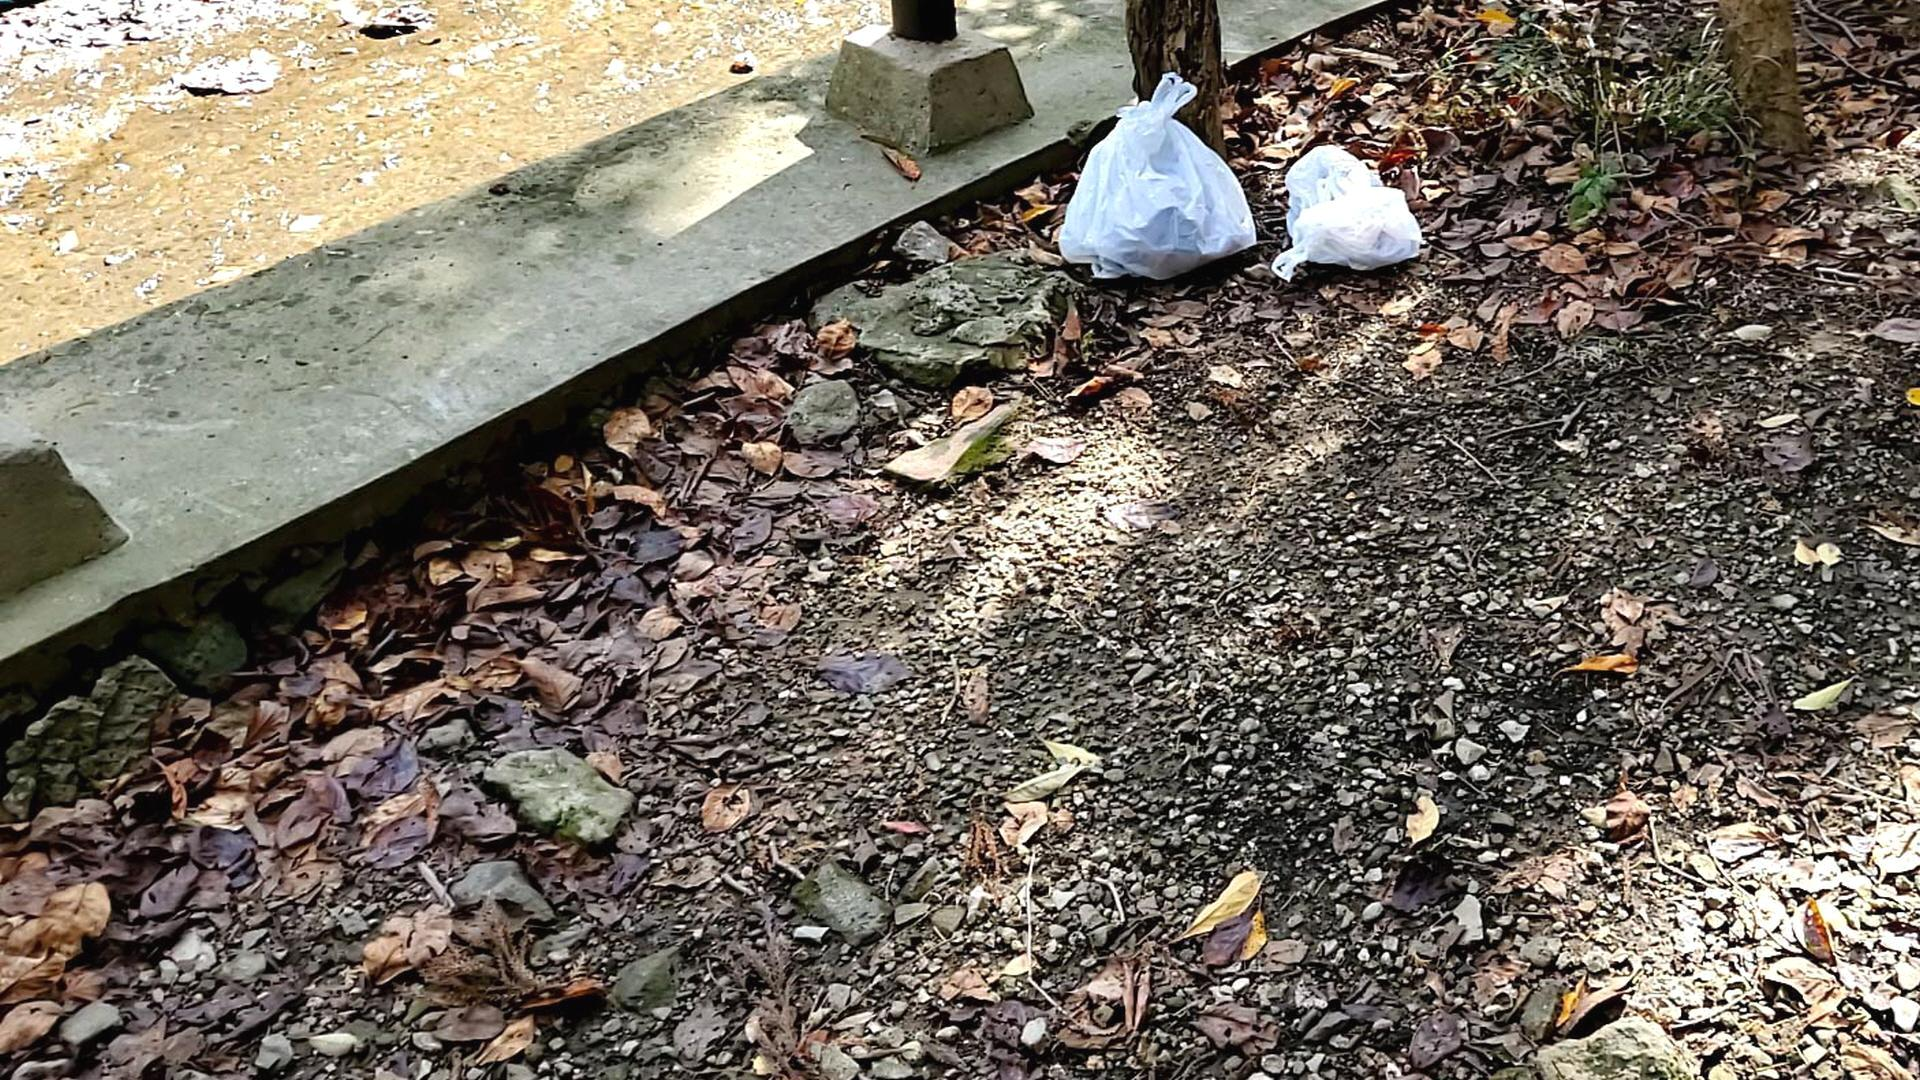white_bag: (1042, 67, 1262, 287), (1261, 142, 1432, 291)
